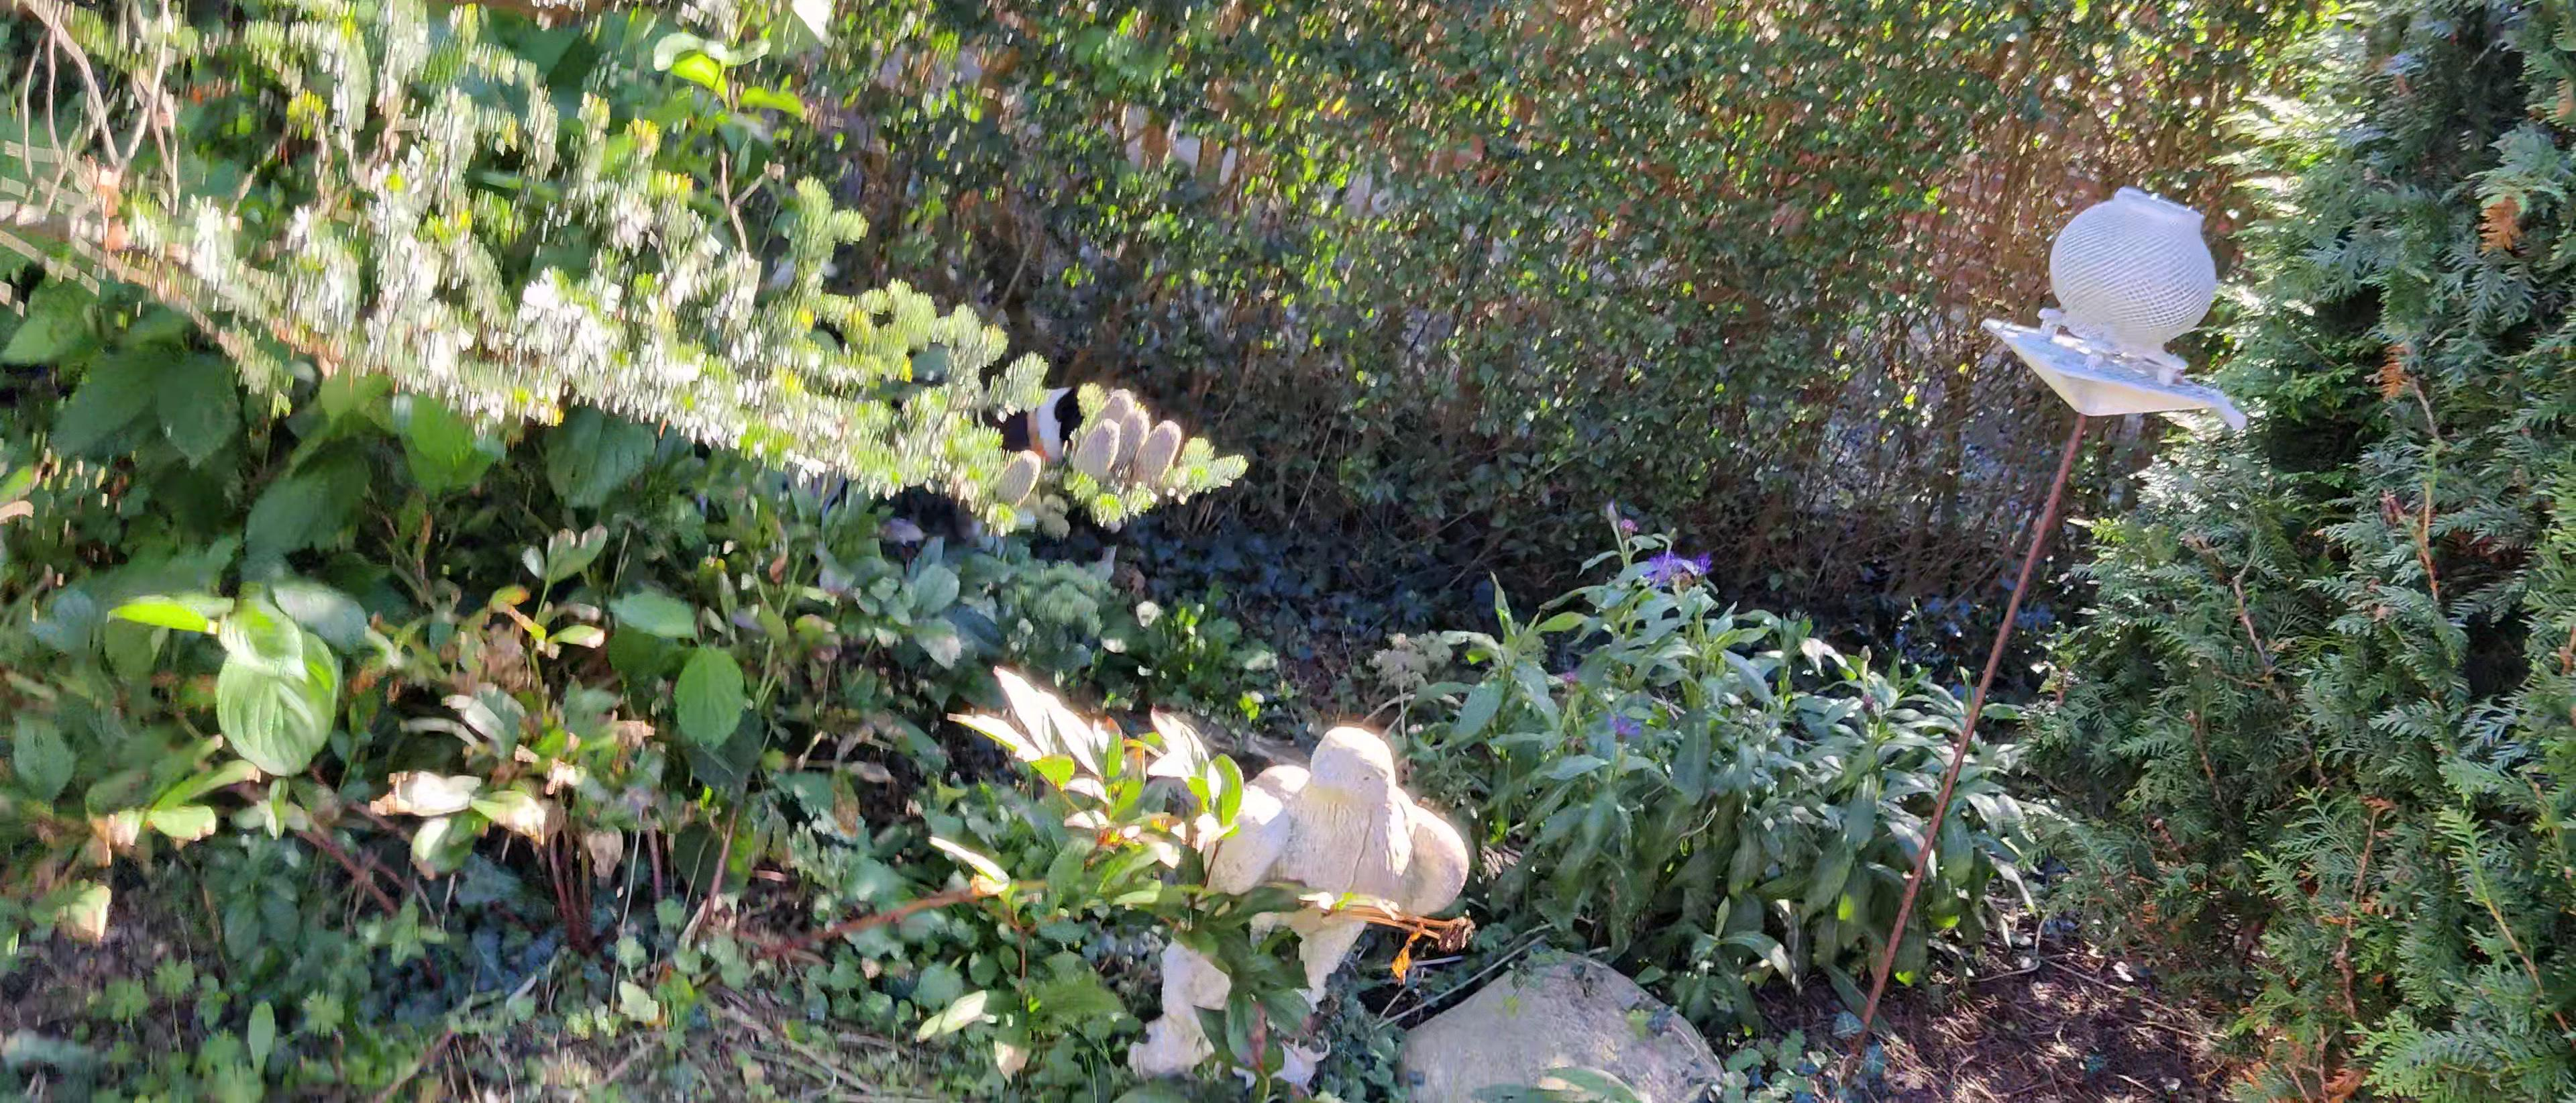Dog: (757, 263, 1102, 472)
